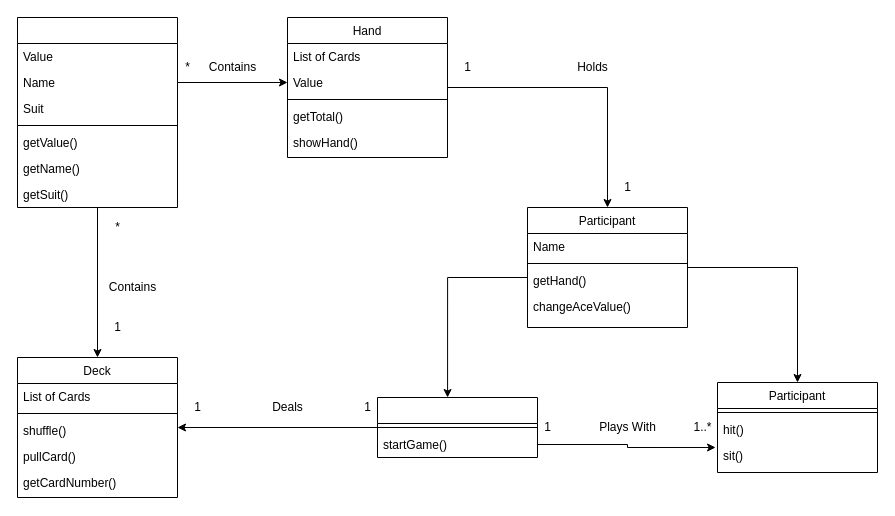
Some shapes in this 895 by 516 pixel diagram are drawn without their labels. The box of each missing label's shape, as (x1, y1, x2, y2) in pixels:
Card: (16, 16, 178, 208)
Dealer: (376, 396, 538, 458)
